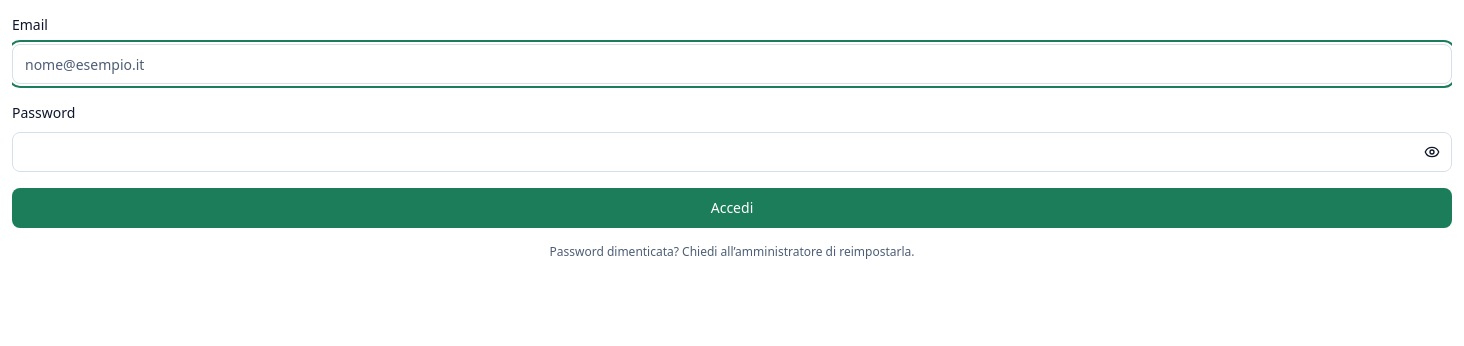
Test: LoginForm › mostra il messaggio in italiano quando le credenziali sono errate
Step 1. Type "mario@esempio.it" into the field labelled "Email" → (732,64), box 12,44 -> 1452,84
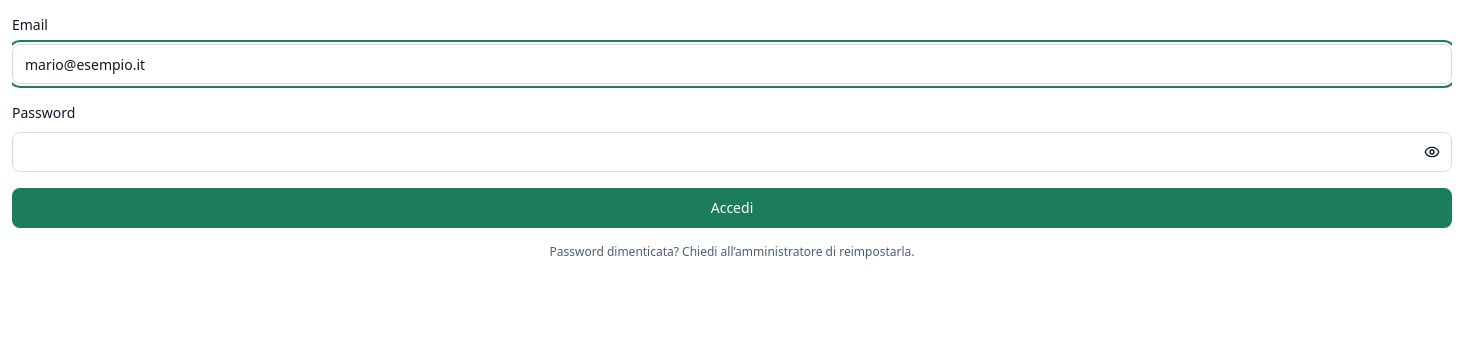
Step 2. Type "sbagliata" into the password field labelled "Password" → (732,152), box 12,132 -> 1452,172
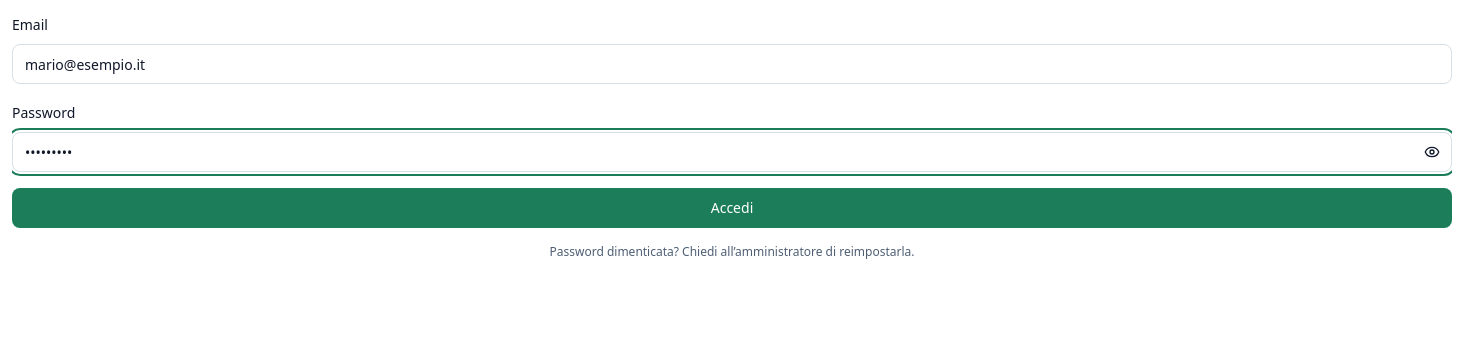
Step 3. Click the button "Accedi" → (732,208), box 12,188 -> 1452,228
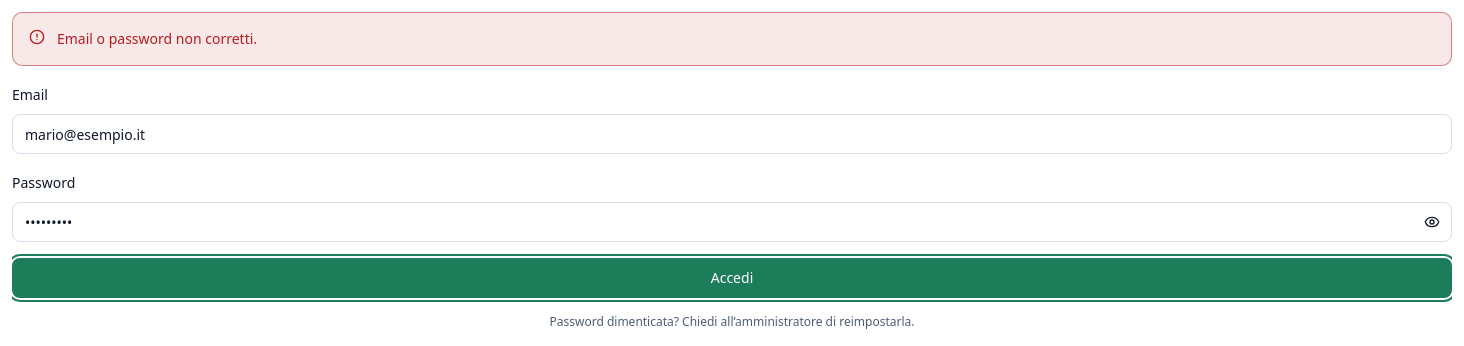
Now the message reads "Email o password non corretti.", box 57,29 -> 257,48
